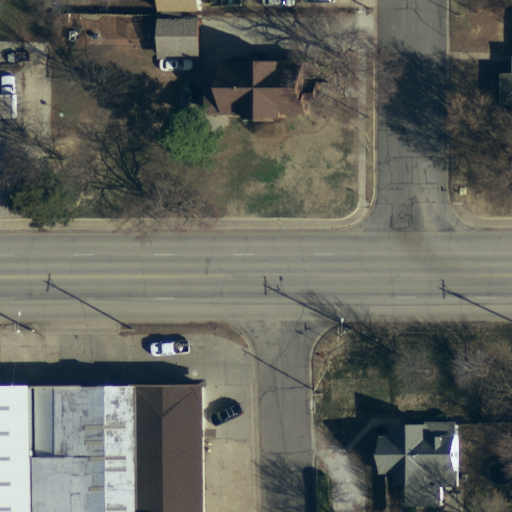DT: (8, 314, 40, 344), (332, 316, 357, 342), (306, 381, 328, 410), (110, 320, 139, 341)
